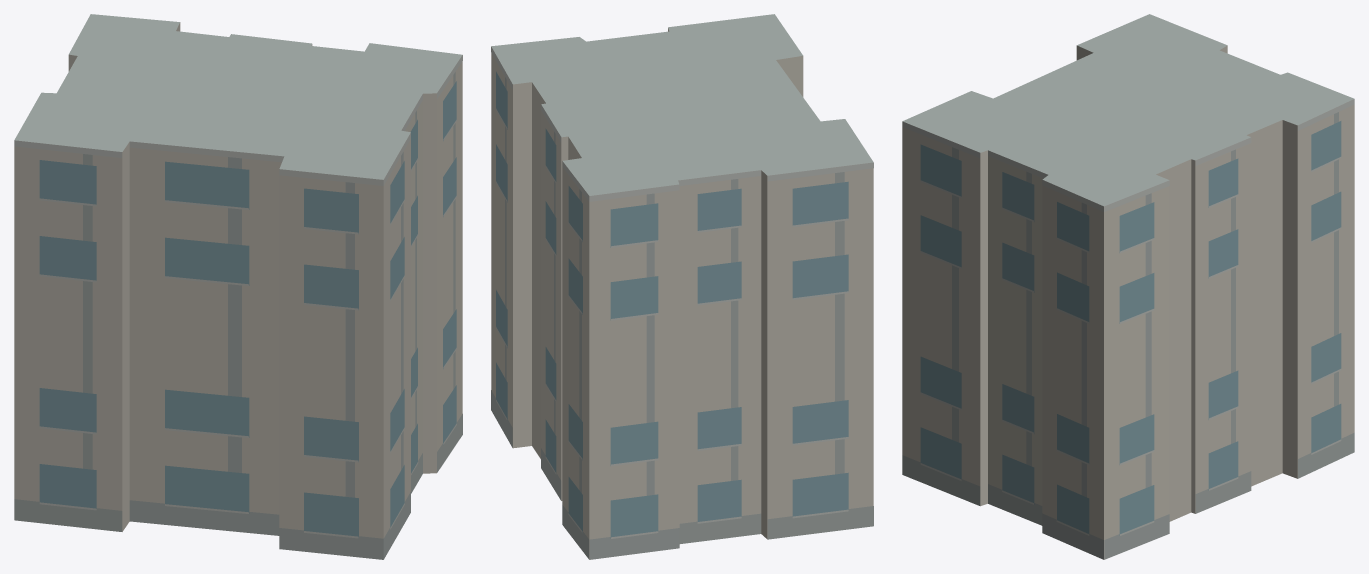
File: survey-upis-32842818.glb
The picture shows the model from 3 angles, left to right: view 1: azimuth 30°, elevation 25°; view 2: azimuth 150°, elevation 25°; view 3: azimuth 270°, elevation 25°; orthographic projection. The views are drawn at different scales.
Parts seen in each view (by area): view 1: survey-upis-32842818.tmp; view 2: survey-upis-32842818.tmp; view 3: survey-upis-32842818.tmp.
Boxes of the visible parts, box(x1,y1,x2,y2) form: survey-upis-32842818.tmp: box(14, 14, 462, 559); survey-upis-32842818.tmp: box(491, 14, 873, 559); survey-upis-32842818.tmp: box(902, 14, 1354, 559).
Bounding box in the file's own units: 17.7 × 15.15 × 17.58.
